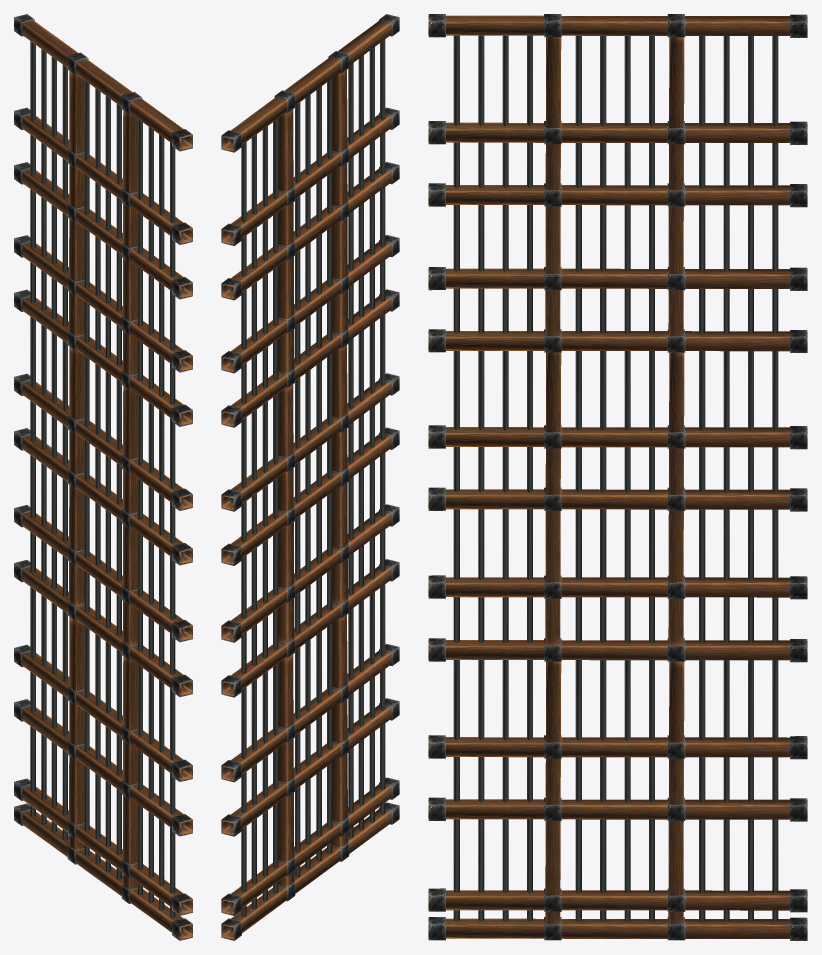
File: INST_SWORDLIGHT_MAINGATE.fbx
3 views of the same model, side by side, from view 1: azimuth 30°, elevation 25°; view 2: azimuth 150°, elevation 25°; view 3: azimuth 270°, elevation 25° (orthographic). The views are drawn at different scales.
Visible parts, largest first — view 1: INST_SWORDLIGHT_MAINGATE; view 2: INST_SWORDLIGHT_MAINGATE; view 3: INST_SWORDLIGHT_MAINGATE.
Part boxes in pixels (box(x1,y1,x2,y2)): INST_SWORDLIGHT_MAINGATE: box(14, 14, 192, 940); INST_SWORDLIGHT_MAINGATE: box(221, 14, 399, 940); INST_SWORDLIGHT_MAINGATE: box(428, 14, 807, 940).
Bounding box in the file's own units: 2529 × 145211 × 54260.
Materials: 3 (3 with a texture image).
